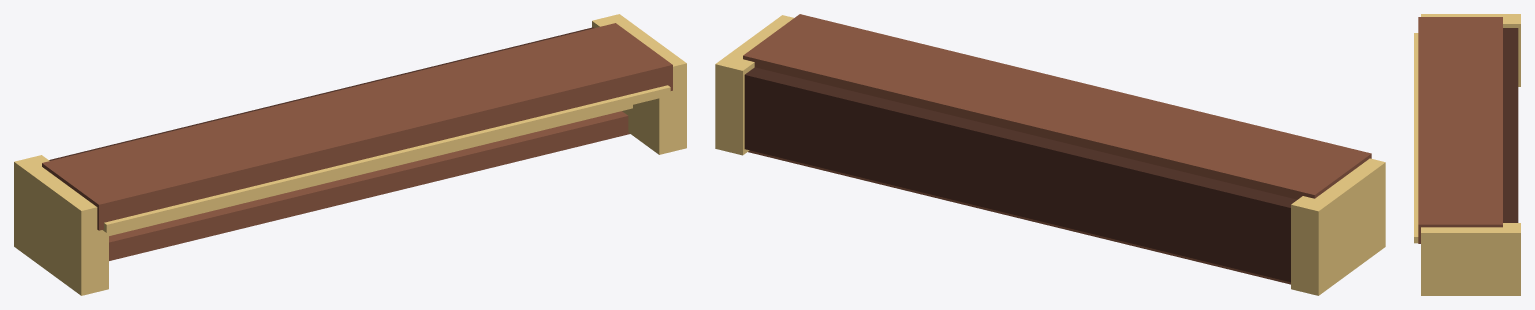
The model's file is rack_royal_gold.glb.
The picture shows the model from 3 angles, left to right: view 1: azimuth 30°, elevation 25°; view 2: azimuth 150°, elevation 25°; view 3: azimuth 270°, elevation 25°; orthographic projection. The views are drawn at different scales.
Parts seen in each view (by area): view 1: rack_back, rack_front, rack_left_cap, rack_top_trim, rack_right_cap, rack_middle_shelf, rack_base; view 2: rack_base, rack_back, rack_left_cap, rack_right_cap, rack_front; view 3: rack_back, rack_right_cap, rack_base, rack_top_trim, rack_left_cap.
Boxes of the visible parts, x1,y1,x2,y2 form: rack_back: [42, 23, 672, 230]; rack_front: [109, 111, 629, 260]; rack_left_cap: [14, 155, 108, 295]; rack_top_trim: [103, 85, 670, 232]; rack_right_cap: [592, 14, 686, 154]; rack_middle_shelf: [109, 105, 632, 235]; rack_base: [49, 27, 594, 160]; rack_base: [744, 67, 1297, 282]; rack_back: [743, 14, 1371, 199]; rack_left_cap: [1291, 158, 1385, 295]; rack_right_cap: [715, 15, 793, 155]; rack_front: [748, 150, 1290, 284]; rack_back: [1418, 17, 1502, 243]; rack_right_cap: [1421, 223, 1520, 295]; rack_base: [1503, 28, 1518, 222]; rack_top_trim: [1414, 33, 1418, 243]; rack_left_cap: [1421, 14, 1520, 86].
Bounding box in the file's own units: 6.12 × 0.875 × 1.26.
